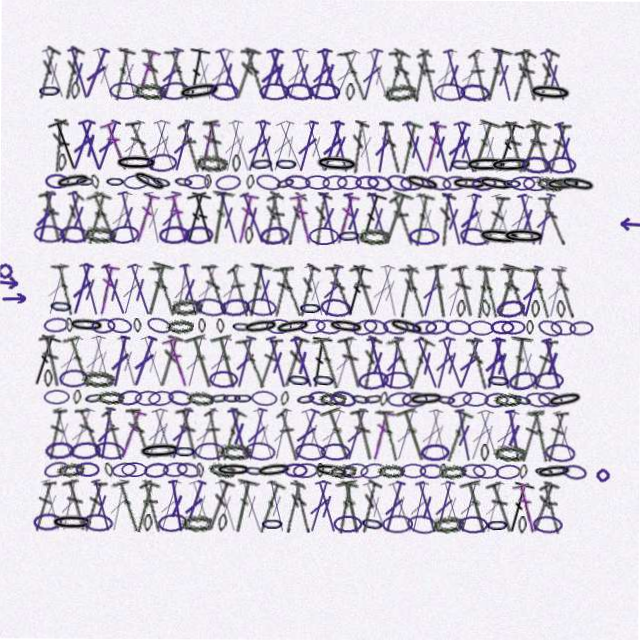chain: (129, 168, 168, 197), (175, 80, 222, 104), (476, 225, 522, 247), (526, 81, 572, 102), (313, 154, 359, 174), (138, 442, 184, 462), (488, 154, 533, 174), (402, 171, 441, 194), (387, 315, 426, 338), (501, 226, 546, 245), (53, 172, 92, 193), (546, 388, 585, 409), (113, 155, 158, 173), (463, 155, 508, 173), (51, 515, 96, 533), (381, 81, 416, 103), (476, 173, 514, 193), (558, 173, 596, 193), (242, 317, 280, 337), (274, 317, 312, 337), (313, 461, 351, 481), (507, 368, 540, 391), (194, 297, 227, 319), (357, 369, 390, 391), (94, 441, 127, 463), (407, 513, 440, 535), (327, 317, 365, 336), (256, 461, 294, 480), (536, 461, 574, 480), (169, 297, 203, 318), (432, 513, 466, 534), (458, 225, 490, 247), (495, 297, 527, 319), (319, 297, 352, 318), (108, 225, 140, 246), (258, 225, 290, 246), (245, 297, 277, 318), (245, 441, 277, 462), (545, 441, 577, 462), (158, 513, 189, 534), (82, 226, 116, 245), (408, 390, 446, 407), (70, 442, 102, 462), (295, 442, 327, 462), (83, 514, 115, 534), (68, 318, 105, 335), (194, 154, 227, 173), (182, 514, 215, 533), (208, 82, 239, 102), (283, 82, 314, 102), (458, 82, 489, 102), (520, 154, 551, 174), (58, 226, 89, 246), (220, 298, 251, 318), (45, 442, 76, 462), (536, 316, 564, 338), (43, 460, 71, 482), (384, 172, 413, 193), (132, 83, 165, 101), (357, 227, 390, 245), (82, 371, 115, 389), (219, 443, 252, 461), (494, 443, 527, 461), (450, 175, 487, 191), (544, 175, 581, 191), (158, 82, 189, 101), (308, 82, 339, 101), (433, 82, 464, 101), (33, 226, 64, 245), (158, 226, 189, 245), (183, 226, 214, 245), (383, 514, 414, 533), (533, 514, 564, 533), (145, 316, 173, 337), (330, 388, 358, 409), (446, 388, 474, 409), (146, 154, 176, 173), (534, 173, 564, 192), (59, 370, 89, 389), (534, 370, 564, 389), (208, 461, 238, 480), (34, 514, 64, 533), (360, 513, 387, 534), (351, 317, 379, 337), (362, 317, 390, 337), (108, 83, 139, 101), (258, 83, 289, 101), (308, 227, 339, 245), (408, 227, 439, 245), (383, 371, 414, 389), (195, 443, 226, 461), (216, 463, 253, 478), (546, 155, 576, 173), (365, 173, 392, 193), (209, 371, 239, 389), (321, 443, 351, 461), (421, 443, 451, 461), (176, 461, 203, 481), (334, 515, 364, 533), (459, 515, 489, 533), (424, 173, 452, 192), (360, 461, 388, 480), (57, 462, 86, 480), (329, 462, 358, 480), (439, 462, 468, 480), (248, 154, 274, 174), (286, 370, 312, 390), (311, 370, 337, 390), (254, 173, 281, 192), (106, 317, 133, 336), (424, 317, 451, 336), (117, 389, 144, 408), (167, 389, 194, 408), (537, 389, 564, 408), (48, 298, 74, 317), (486, 370, 512, 389), (214, 174, 241, 192), (315, 318, 342, 336), (148, 390, 175, 408), (525, 390, 552, 408), (562, 462, 589, 480), (149, 173, 173, 193), (273, 173, 297, 193), (511, 389, 535, 409), (448, 154, 473, 173), (336, 226, 361, 245), (112, 462, 138, 480), (144, 462, 170, 480), (283, 174, 310, 191), (43, 318, 70, 335), (299, 318, 326, 335), (382, 318, 409, 335), (445, 318, 472, 335), (550, 318, 577, 335), (251, 390, 278, 407), (293, 462, 320, 479), (343, 462, 370, 479), (473, 462, 500, 479), (36, 83, 61, 101), (273, 155, 298, 173), (298, 299, 323, 317), (173, 443, 198, 461), (261, 515, 286, 533), (486, 515, 511, 533), (166, 319, 194, 335), (187, 391, 215, 407), (321, 174, 347, 191), (441, 174, 467, 191), (308, 390, 334, 407), (163, 462, 189, 479), (461, 462, 487, 479), (122, 175, 149, 191), (97, 391, 125, 406), (319, 391, 347, 406), (494, 391, 522, 406), (378, 463, 406, 478), (470, 175, 496, 191), (468, 319, 494, 335), (135, 391, 161, 407), (387, 391, 413, 407), (402, 391, 428, 407), (484, 391, 510, 407), (496, 463, 522, 479), (83, 390, 106, 408), (295, 390, 318, 408), (350, 390, 373, 408), (91, 319, 116, 335), (412, 319, 437, 335), (569, 319, 594, 335), (183, 175, 209, 190), (509, 175, 535, 190), (266, 319, 292, 334), (44, 391, 70, 406), (463, 391, 489, 406), (122, 463, 148, 478), (401, 463, 427, 478), (44, 175, 69, 190), (304, 175, 329, 190), (336, 175, 361, 190), (354, 175, 379, 190), (399, 175, 424, 190), (522, 175, 547, 190), (490, 319, 515, 334), (501, 319, 526, 334), (76, 463, 101, 478), (284, 463, 309, 478), (420, 463, 445, 478), (172, 174, 194, 191), (209, 390, 231, 407), (363, 390, 385, 407), (534, 462, 556, 479), (436, 391, 458, 407), (244, 463, 266, 479), (231, 319, 252, 335), (74, 175, 95, 190), (104, 175, 125, 190), (501, 175, 522, 190), (222, 391, 243, 406), (233, 391, 254, 406), (480, 298, 492, 317), (218, 514, 229, 533), (104, 463, 116, 479), (69, 83, 79, 101), (344, 83, 354, 101), (56, 155, 66, 173), (456, 299, 466, 317), (556, 299, 566, 317), (144, 515, 154, 533), (89, 175, 100, 191), (231, 155, 240, 173), (244, 227, 253, 245), (531, 299, 540, 317), (44, 371, 53, 389), (481, 443, 490, 461), (519, 515, 528, 533), (280, 391, 290, 407), (379, 391, 389, 407), (196, 463, 206, 479), (519, 463, 529, 479), (245, 175, 254, 190), (65, 319, 74, 334), (133, 319, 142, 334), (216, 319, 225, 334), (73, 391, 82, 406), (203, 175, 211, 190), (198, 319, 206, 334), (526, 319, 534, 334), (317, 463, 325, 478), (440, 463, 448, 478)
double: (512, 118, 551, 175), (320, 406, 359, 463), (395, 406, 434, 463), (46, 118, 84, 175), (463, 118, 501, 175), (376, 190, 414, 247), (488, 118, 525, 175), (26, 334, 63, 391), (184, 334, 221, 391), (84, 191, 121, 247), (438, 407, 475, 463), (251, 479, 288, 535), (185, 190, 221, 247), (352, 190, 388, 247), (139, 262, 175, 319), (489, 262, 525, 319), (460, 478, 496, 535), (326, 47, 363, 102), (271, 119, 308, 174), (335, 47, 371, 103), (272, 263, 308, 319), (235, 335, 271, 391), (477, 46, 512, 103), (210, 334, 245, 391), (535, 47, 571, 102), (339, 263, 374, 319), (385, 335, 420, 391), (402, 335, 437, 391), (502, 479, 537, 535), (202, 47, 237, 102), (210, 47, 245, 102), (452, 47, 487, 102), (397, 119, 432, 174), (235, 191, 270, 246), (97, 263, 132, 318), (52, 335, 87, 390), (410, 335, 445, 390), (435, 335, 470, 390), (64, 407, 99, 462), (289, 407, 324, 462), (360, 479, 395, 534), (385, 479, 420, 534), (527, 479, 562, 534), (78, 191, 112, 247), (178, 191, 212, 247), (61, 335, 95, 391), (215, 407, 249, 463), (111, 479, 145, 535), (128, 479, 162, 535), (336, 479, 370, 535), (36, 47, 70, 102), (78, 47, 112, 102), (65, 119, 99, 174), (73, 119, 107, 174), (98, 119, 132, 174), (440, 119, 474, 174), (123, 263, 157, 318), (348, 263, 382, 318), (365, 263, 399, 318), (136, 335, 170, 390), (286, 335, 320, 390), (453, 335, 487, 390), (315, 407, 349, 462), (490, 407, 524, 462), (186, 479, 220, 534), (203, 479, 237, 534), (236, 479, 270, 534), (486, 479, 520, 534), (378, 47, 411, 103), (148, 263, 181, 319), (240, 263, 273, 319), (398, 263, 431, 319), (311, 335, 344, 391), (228, 479, 261, 535), (228, 47, 261, 102), (261, 47, 294, 102), (361, 47, 394, 102), (90, 119, 123, 174), (115, 119, 148, 174), (148, 119, 181, 174), (223, 119, 256, 174), (240, 119, 273, 174), (315, 119, 348, 174), (411, 191, 444, 246), (503, 191, 536, 246), (128, 335, 161, 390), (161, 335, 194, 390), (278, 335, 311, 390), (115, 407, 148, 462), (148, 407, 181, 462), (190, 407, 223, 462), (298, 407, 331, 462), (465, 407, 498, 462), (162, 47, 194, 103), (391, 119, 423, 175), (524, 263, 556, 319), (87, 47, 119, 102), (154, 47, 186, 102), (254, 47, 286, 102), (279, 47, 311, 102), (287, 47, 319, 102), (312, 47, 344, 102), (141, 119, 173, 174), (299, 119, 331, 174), (449, 119, 481, 174), (524, 119, 556, 174), (104, 191, 136, 246), (212, 191, 244, 246), (362, 191, 394, 246), (66, 263, 98, 318), (191, 263, 223, 318), (204, 335, 236, 390), (329, 335, 361, 390), (249, 407, 281, 462), (341, 407, 373, 462), (416, 407, 448, 462), (474, 407, 506, 462), (549, 407, 581, 462), (62, 479, 94, 534), (154, 479, 186, 534), (179, 479, 211, 534), (212, 479, 244, 534), (304, 479, 336, 534), (312, 479, 344, 534), (412, 479, 444, 534), (437, 479, 469, 534), (104, 47, 135, 103), (387, 48, 419, 102), (504, 48, 536, 102), (124, 120, 156, 174), (537, 192, 569, 246), (62, 47, 93, 102), (129, 47, 160, 102), (512, 47, 543, 102), (266, 119, 297, 174), (291, 119, 322, 174), (424, 119, 455, 174), (474, 119, 505, 174), (499, 119, 530, 174), (549, 119, 580, 174), (37, 191, 68, 246), (129, 191, 160, 246), (204, 191, 235, 246), (454, 191, 485, 246), (462, 191, 493, 246), (487, 191, 518, 246), (41, 263, 72, 318), (216, 263, 247, 318), (416, 263, 447, 318), (441, 263, 472, 318), (79, 335, 110, 390), (87, 335, 118, 390), (154, 335, 185, 390), (262, 335, 293, 390), (337, 335, 368, 390), (49, 407, 80, 462), (166, 407, 197, 462), (224, 407, 255, 462), (391, 407, 422, 462), (454, 479, 485, 534), (180, 47, 210, 103), (405, 191, 435, 247), (330, 479, 360, 535), (387, 192, 418, 246), (30, 47, 60, 102), (305, 47, 335, 102), (355, 47, 385, 102), (430, 47, 460, 102), (438, 47, 468, 102), (167, 119, 197, 174), (250, 119, 280, 174), (63, 191, 93, 246), (163, 191, 193, 246), (330, 191, 360, 246), (438, 191, 468, 246), (75, 263, 105, 318), (250, 263, 280, 318), (300, 263, 330, 318), (317, 263, 347, 318), (325, 263, 355, 318), (425, 263, 455, 318), (450, 263, 480, 318), (517, 263, 547, 318), (113, 335, 143, 390), (180, 335, 210, 390), (230, 335, 260, 390), (363, 335, 393, 390), (480, 335, 510, 390), (513, 335, 543, 390), (538, 335, 568, 390), (75, 407, 105, 462), (142, 407, 172, 462), (175, 407, 205, 462), (242, 407, 272, 462), (350, 407, 380, 462), (375, 407, 405, 462), (38, 479, 68, 534), (88, 479, 118, 534), (380, 479, 410, 534), (430, 479, 460, 534), (480, 479, 510, 534), (55, 192, 85, 246), (480, 192, 510, 246), (188, 47, 217, 102), (488, 47, 517, 102), (530, 47, 559, 102), (217, 119, 246, 174), (325, 119, 354, 174), (113, 191, 142, 246), (288, 191, 317, 246), (513, 191, 542, 246), (530, 191, 559, 246), (50, 263, 79, 318), (117, 263, 146, 318), (175, 263, 204, 318), (292, 263, 321, 318), (467, 263, 496, 318), (475, 263, 504, 318), (500, 263, 529, 318), (542, 263, 571, 318), (38, 335, 67, 390), (305, 335, 334, 390), (430, 335, 459, 390), (488, 335, 517, 390), (505, 335, 534, 390), (367, 407, 396, 462), (425, 407, 454, 462), (263, 479, 292, 534), (355, 479, 384, 534), (405, 479, 434, 534), (513, 479, 542, 534), (175, 120, 204, 174), (225, 264, 254, 318), (255, 336, 284, 390), (530, 336, 559, 390), (100, 408, 129, 462), (275, 408, 304, 462), (56, 47, 84, 102), (114, 47, 142, 102), (239, 47, 267, 102), (418, 119, 446, 174), (31, 191, 59, 246), (156, 191, 184, 246), (231, 191, 259, 246), (256, 191, 284, 246), (314, 191, 342, 246), (339, 191, 367, 246), (201, 263, 229, 318), (376, 263, 404, 318), (106, 335, 134, 390), (126, 407, 154, 462), (268, 407, 296, 462), (526, 407, 554, 462), (56, 479, 84, 534), (106, 479, 134, 534), (543, 120, 571, 174), (81, 480, 109, 534), (139, 480, 167, 534), (193, 119, 220, 174), (201, 119, 228, 174), (139, 191, 166, 246), (93, 263, 120, 318), (356, 335, 383, 390), (451, 407, 478, 462), (501, 407, 528, 462), (414, 48, 441, 102), (281, 192, 308, 246), (551, 264, 578, 318), (518, 408, 545, 462), (281, 480, 308, 534), (539, 480, 566, 534), (352, 119, 378, 174), (169, 263, 195, 318), (94, 407, 120, 462), (165, 479, 191, 534), (465, 48, 491, 102), (265, 192, 291, 246), (394, 264, 420, 318), (544, 408, 570, 462), (32, 480, 58, 534), (382, 335, 407, 390), (140, 48, 165, 102), (407, 48, 432, 102), (344, 120, 369, 174), (307, 192, 332, 246), (370, 120, 394, 174), (378, 120, 402, 174), (270, 264, 294, 318), (466, 336, 490, 390), (203, 408, 227, 462), (291, 480, 315, 534), (433, 192, 456, 246), (45, 408, 68, 462), (46, 120, 68, 174)
noise: (617, 216, 640, 230), (0, 263, 15, 283), (595, 465, 612, 482), (0, 277, 20, 291), (1, 295, 28, 305)
